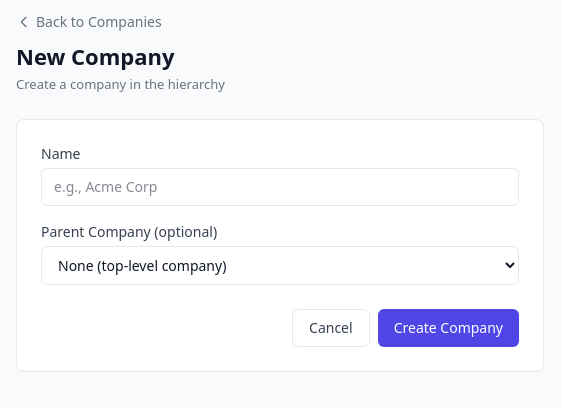
Test: CompanyCreatePage › shows validation error when name is empty
The image size is (561, 409).
Step 1. Click the button "Create Company" → (448, 328), box [378, 308, 519, 346]
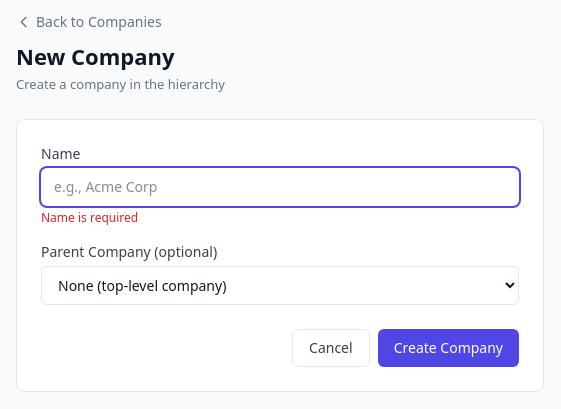
Check: the text "Name is required" is shown, box [41, 208, 138, 226]
